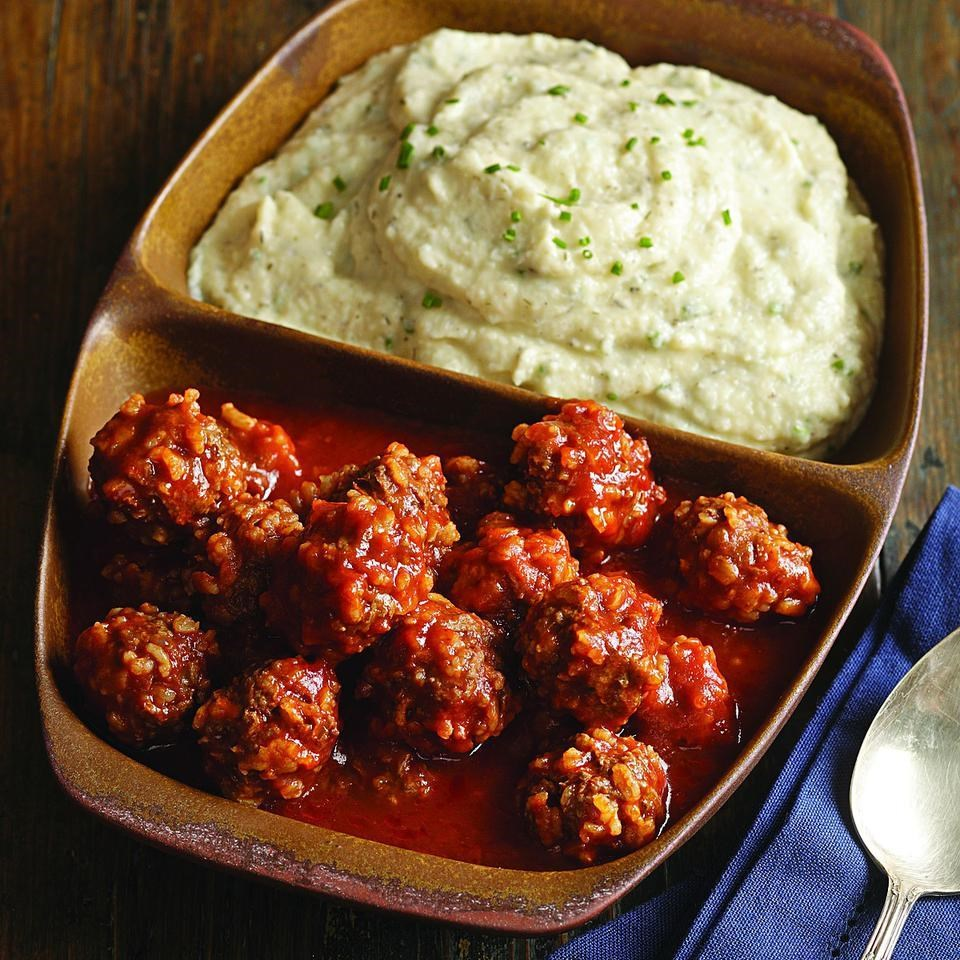meatballs: (111, 389, 677, 787)
